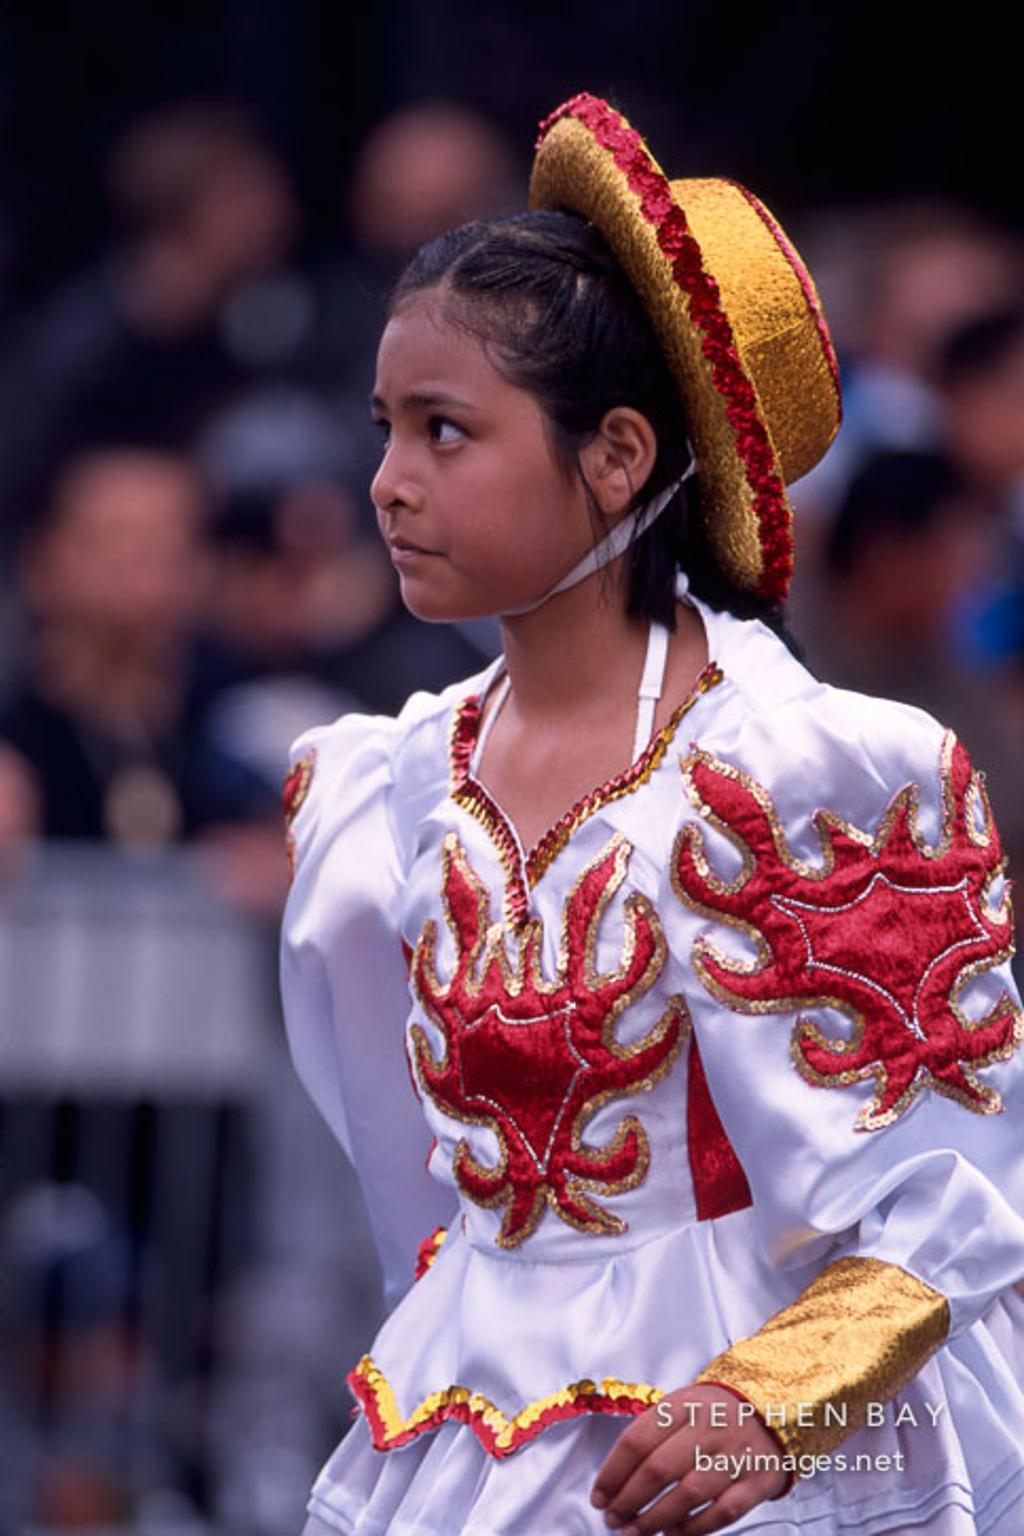face: (373, 283, 583, 622)
